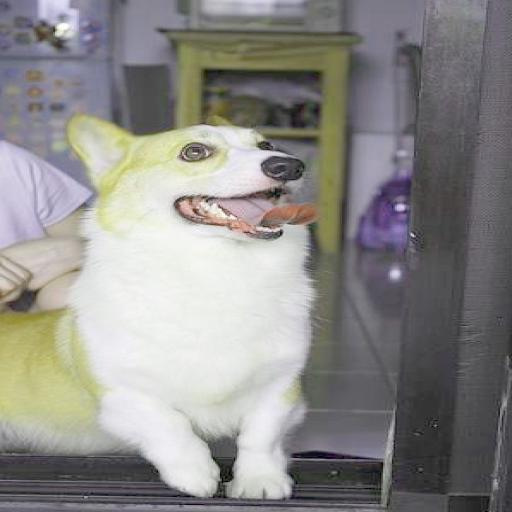dog_face: (63, 112, 330, 263)
